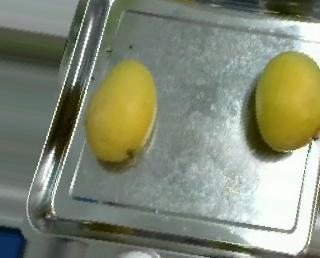Mango: (84, 59, 160, 164), (252, 49, 319, 152)
